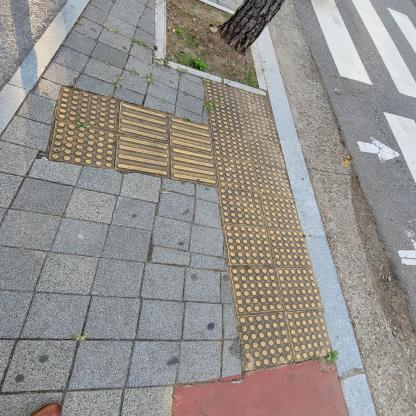podotacti: (36, 61, 342, 377)
